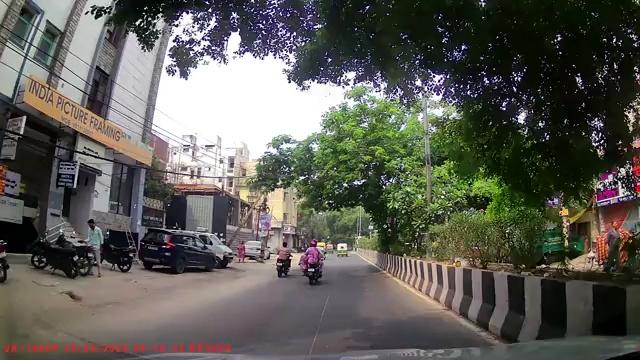motorcycle_without_helmet: (275, 241, 293, 279)
passenger_with_helmet: (298, 239, 327, 285)
